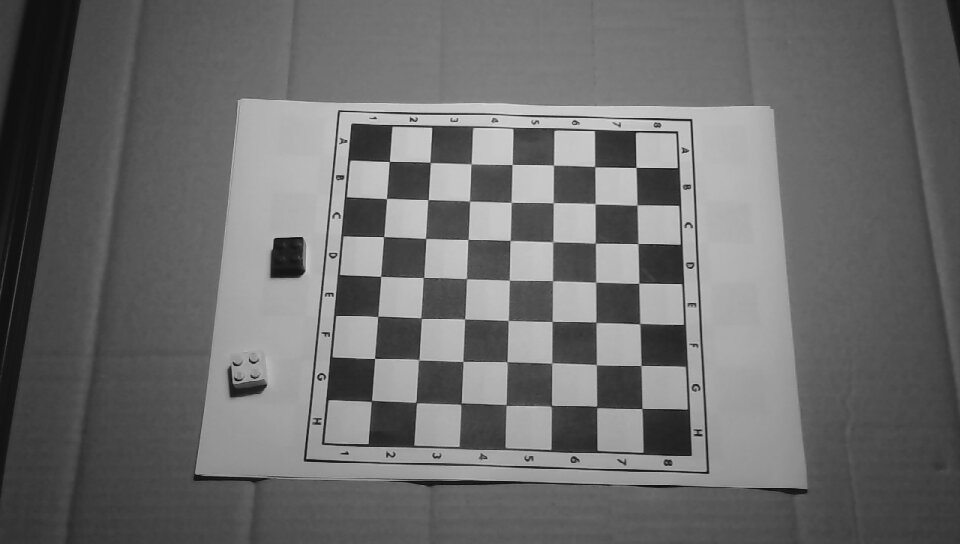wp: (226, 350, 268, 393)
